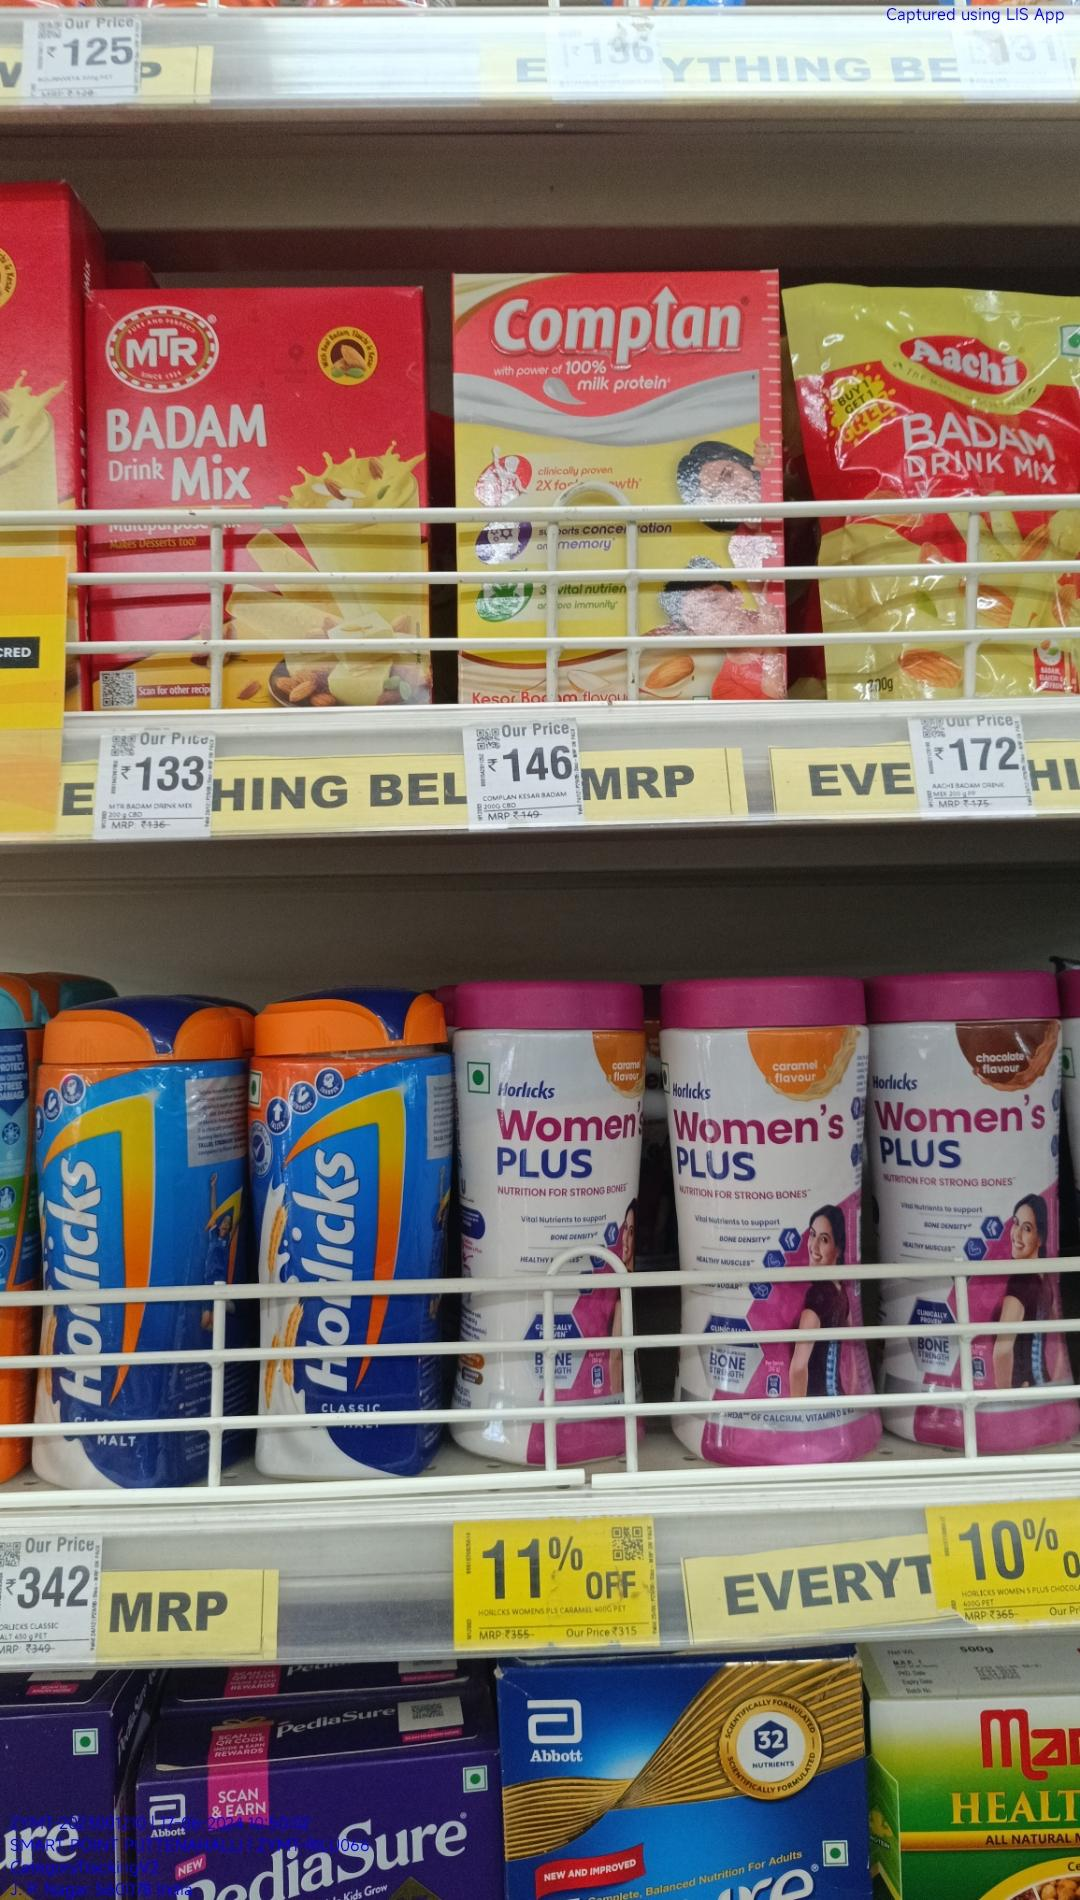COMPLAN_KESAR_BADAM_500_GMS_PACK: (454, 271, 777, 698)
HORLICK_CLASSIC_MALT_500_G_JAR: (38, 990, 243, 1498), (250, 983, 427, 1484)
